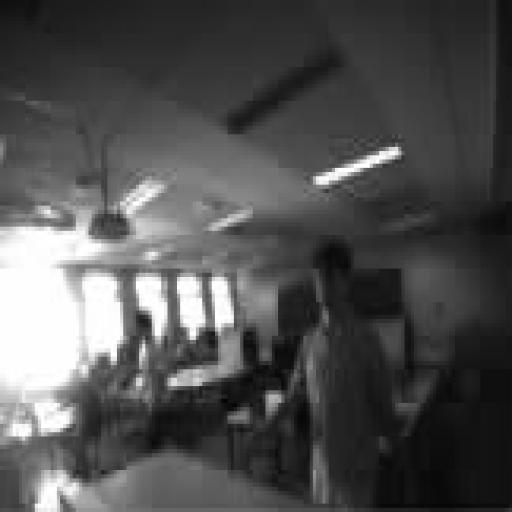human: (250, 240, 398, 507), (134, 310, 171, 456)
